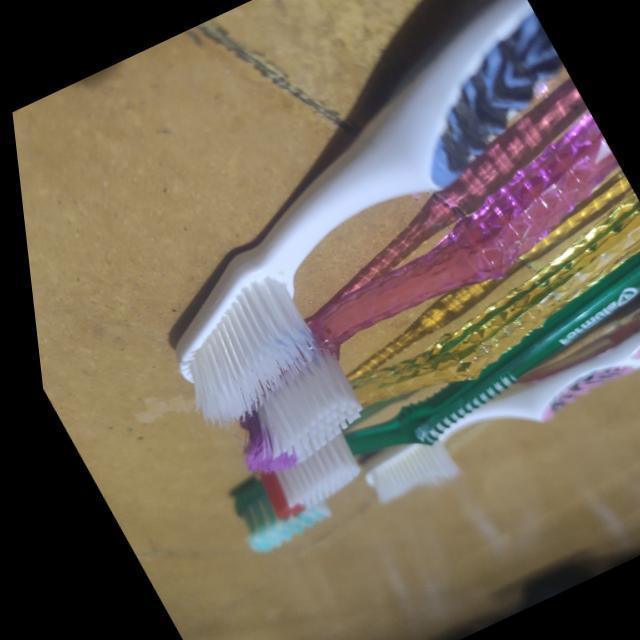toothbrush: (0, 317, 448, 353)
